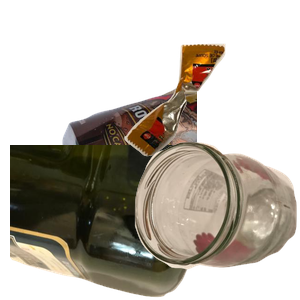glass: (132, 139, 300, 300)
metal: (60, 79, 300, 259)
plastic: (10, 145, 213, 300)
trash: (122, 41, 300, 190)
